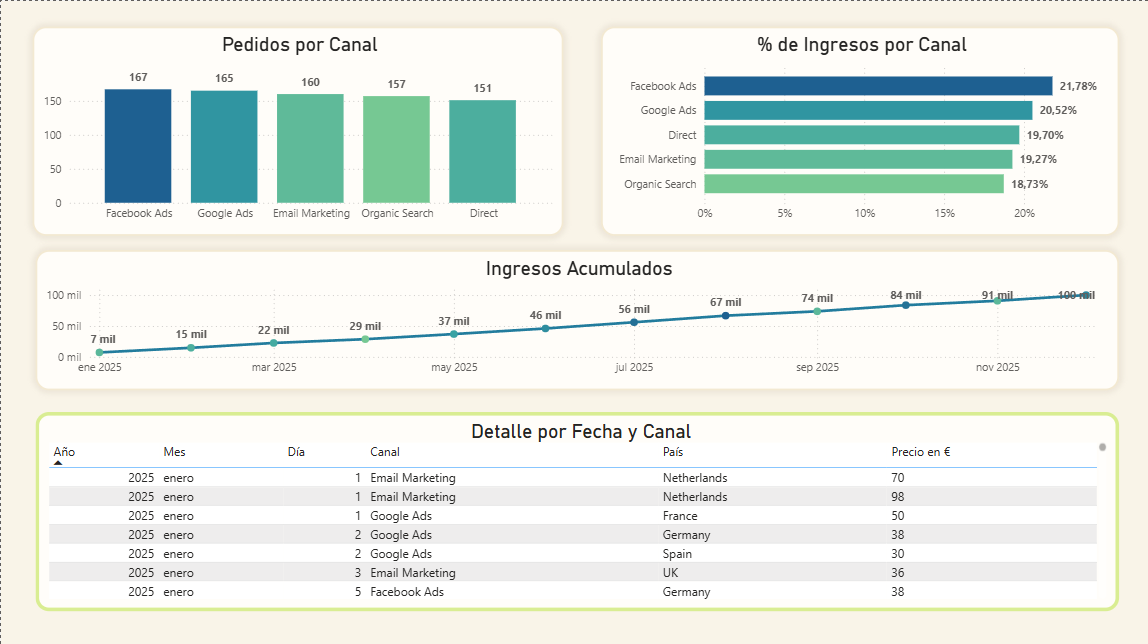

What the dashboard file says about the page in this screenshot:
{"tool":"powerbi","page":{"name":"03 – Marketing","canvas":[1280,720],"ordinal":2},"visuals":[{"type":"clusteredColumnChart","title":"Pedidos por Canal","fields":{"Category":["Dim_channels.ChannelName"],"Y":["_Measures.Total Orders"]},"box":[34.3,28.6,590,232.9],"z":1000},{"type":"clusteredBarChart","title":"% de Ingresos por Canal","fields":{"Category":["Dim_channels.ChannelName"],"Y":["Dim_channels.% Revenue by Channel"]},"box":[667.1,28.6,575.7,232.9],"z":2000},{"type":"lineChart","title":"Ingresos Acumulados","fields":{"Y":["Dim_dates.Revenue YTD"],"Category":["Dim_dates.YearMonth.Variación.Jerarquía de fechas.Año","Dim_dates.YearMonth.Variación.Jerarquía de fechas.Mes","Dim_dates.YearMonth.Variación.Jerarquía de fechas.Día"]},"box":[38.6,277.1,1204.3,155.7],"z":3000},{"type":"tableEx","title":"Detalle por Fecha y Canal","fields":{"Values":["Dim_dates.Date.Variación.Jerarquía de fechas.Año","Dim_dates.Date.Variación.Jerarquía de fechas.Mes","Dim_dates.Date.Variación.Jerarquía de fechas.Día","Dim_channels.ChannelName","Dim_customers.Country","Dim_products.Price"]},"box":[38.6,457.1,1204.3,221.4],"z":4000}]}

Visuals, with their boxes in screenshot pixels (x1, y1, x2, y2), scaled from the page's 1280x720 canvas onto the 1148x644 screenshot:
"Pedidos por Canal" clusteredColumnChart: (x1=31, y1=26, x2=560, y2=234)
"% de Ingresos por Canal" clusteredBarChart: (x1=598, y1=26, x2=1115, y2=234)
"Ingresos Acumulados" lineChart: (x1=35, y1=248, x2=1115, y2=387)
"Detalle por Fecha y Canal" tableEx: (x1=35, y1=409, x2=1115, y2=607)
